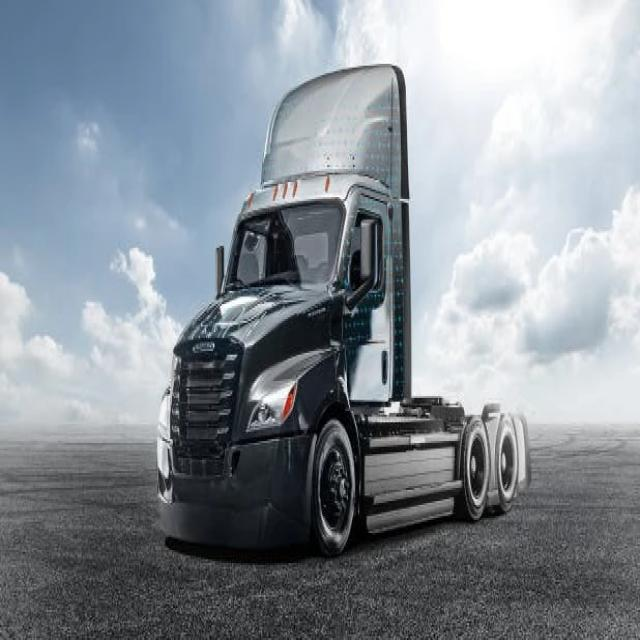TRUCK: (156, 66, 530, 555)
